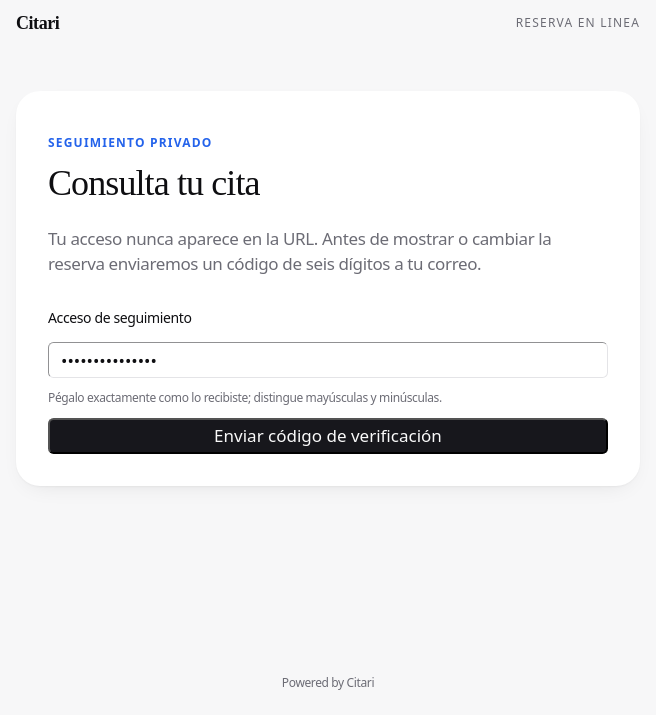
it: public booking integrity › requires an emailed code and keeps tracking credentials in POST bodies
Expected: the password field labelled "Acceso de seguimiento" holds "tracking-secret", x1=48 y1=342 x2=608 y2=378
Click the button "Enviar código de verificación" at (328, 436), box x1=48 y1=418 x2=608 y2=454
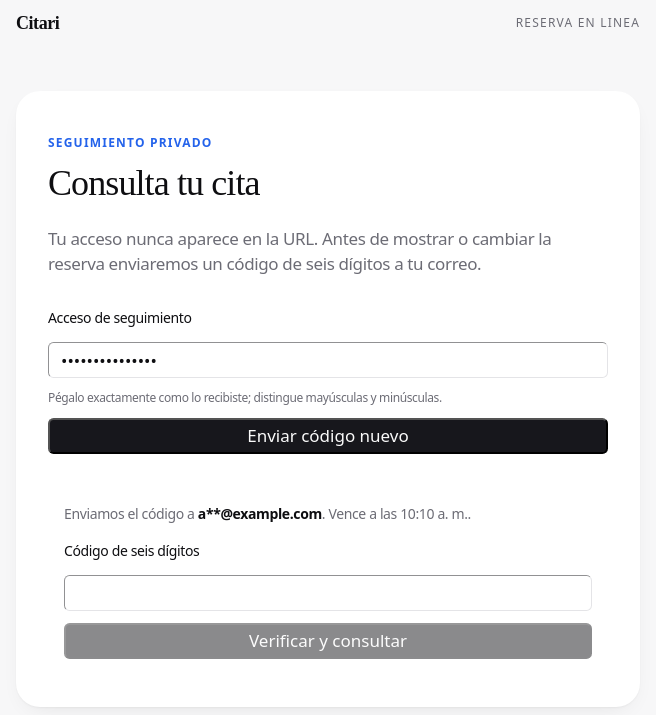
Type "123456" into the field labelled "Código de seis dígitos" at (328, 593), box x1=64 y1=575 x2=592 y2=611
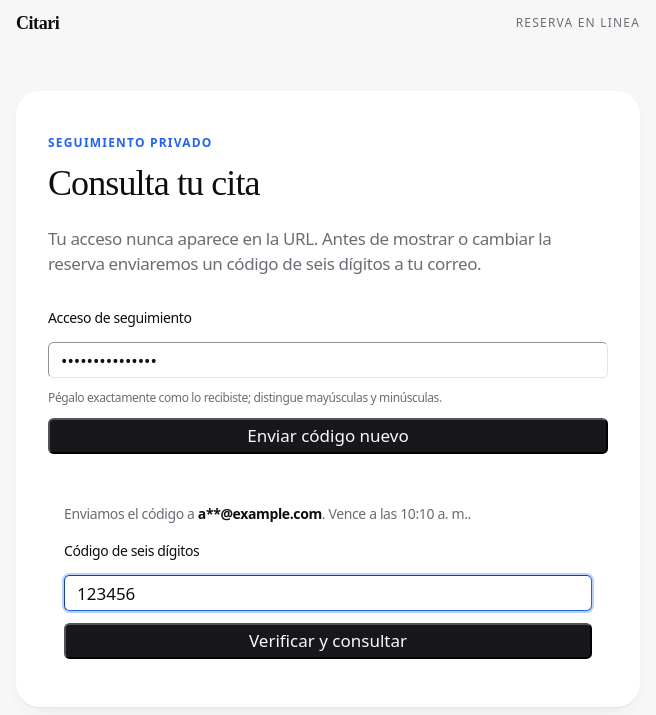
Click the button "Verificar y consultar" at (328, 641), box x1=64 y1=623 x2=592 y2=659
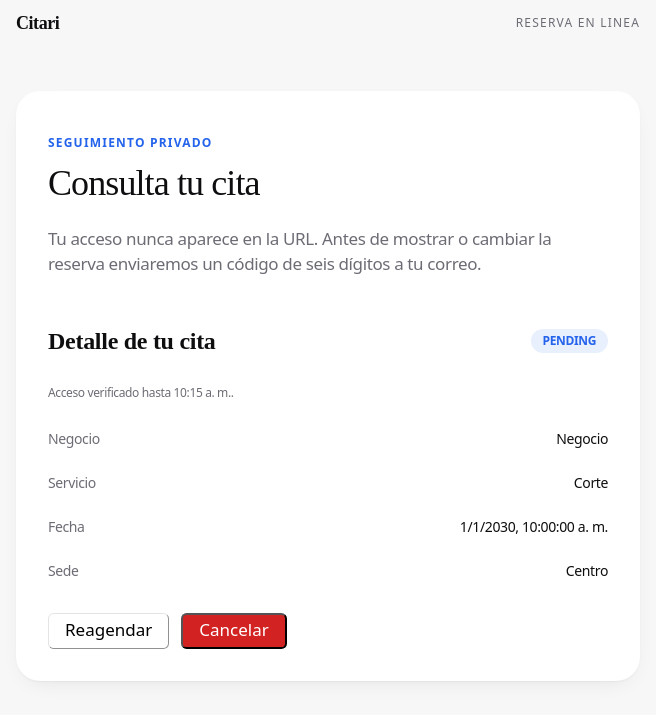
Result: the heading "Detalle de tu cita" is shown at x1=48 y1=325 x2=216 y2=357
